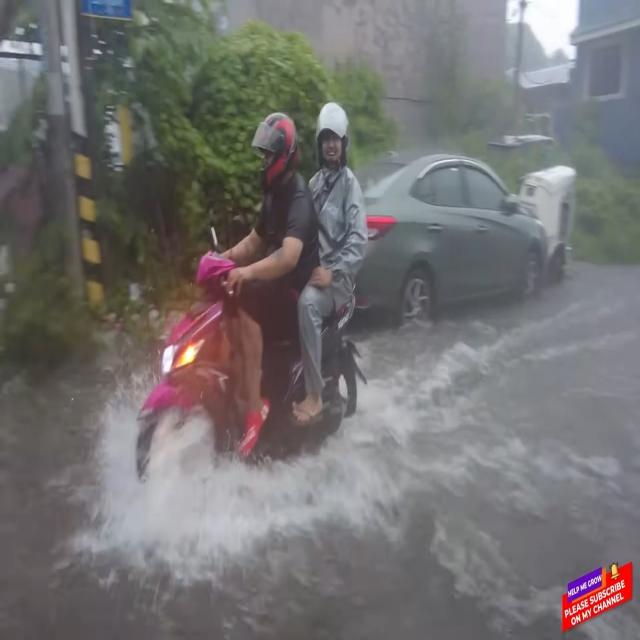full: (246, 102, 305, 196)
half: (310, 97, 353, 178)
